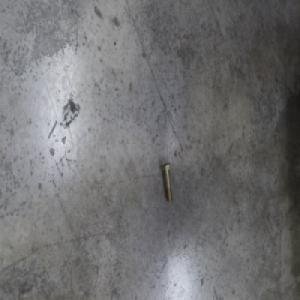Bolt: (161, 162, 174, 204)
